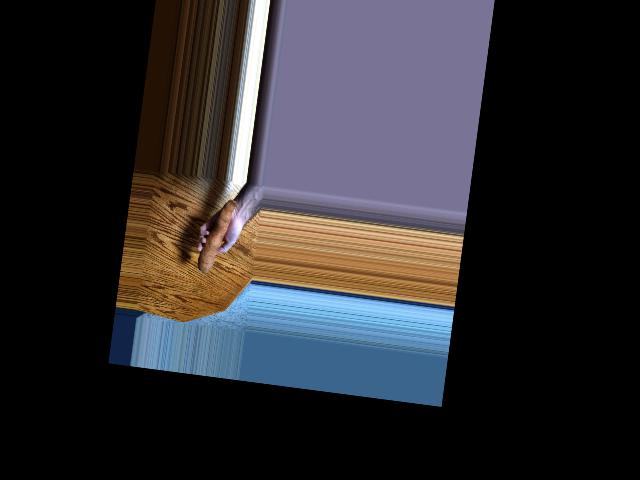sweet_potato: (195, 200, 232, 271)
